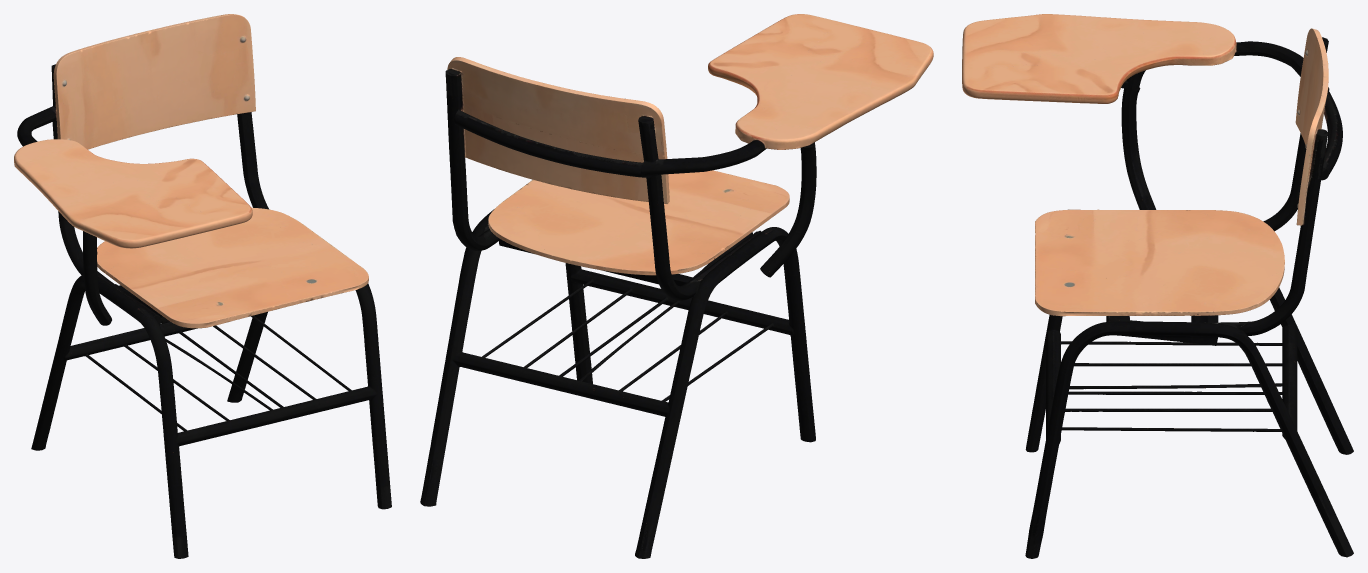
File: cadeira-aula.obj
The picture shows the model from 3 angles, left to right: view 1: azimuth 30°, elevation 25°; view 2: azimuth 150°, elevation 25°; view 3: azimuth 270°, elevation 25°; orthographic projection. The views are drawn at different scales.
Visible parts, largest first — view 1: Mesh_0.002; view 2: Mesh_0.002; view 3: Mesh_0.002.
Boxes of the visible parts, x1,y1,x2,y2 form: Mesh_0.002: (14,14,391,558); Mesh_0.002: (420,14,933,558); Mesh_0.002: (962,14,1353,558).
Bounding box in the file's own units: 0.7081 × 0.8613 × 0.7136.
Materials: 1 (1 with a texture image).
